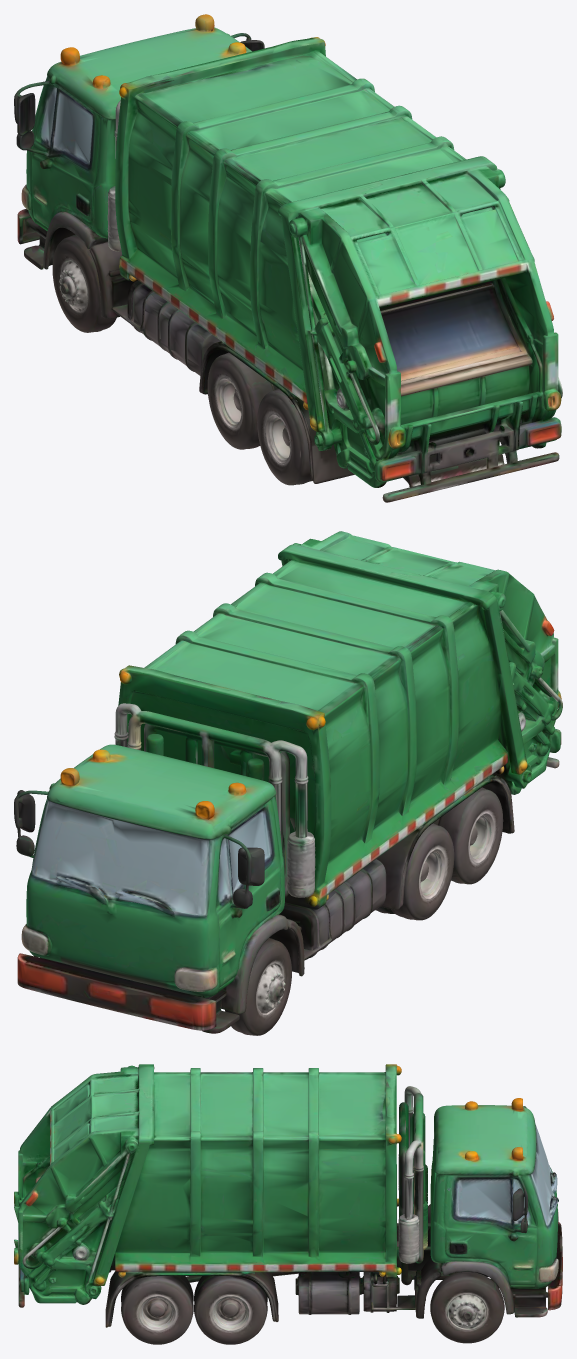
Rendered from A_garbage_truck_with_a_rear_compactor_in_municipal_green.glb.
3 views of the same model, one above another, from view 1: azimuth 30°, elevation 25°; view 2: azimuth 150°, elevation 25°; view 3: azimuth 270°, elevation 25° (orthographic). The views are drawn at different scales.
Visible parts, largest first — view 1: node_0; view 2: node_0; view 3: node_0.
Part boxes in pixels (x1,y1,x2,y2): node_0: (14, 14, 562, 502); node_0: (14, 531, 562, 1035); node_0: (14, 1064, 562, 1344).
Size of the model in its own units: 0.4359 by 0.4786 by 1.13.
1 material, 1 textured.
